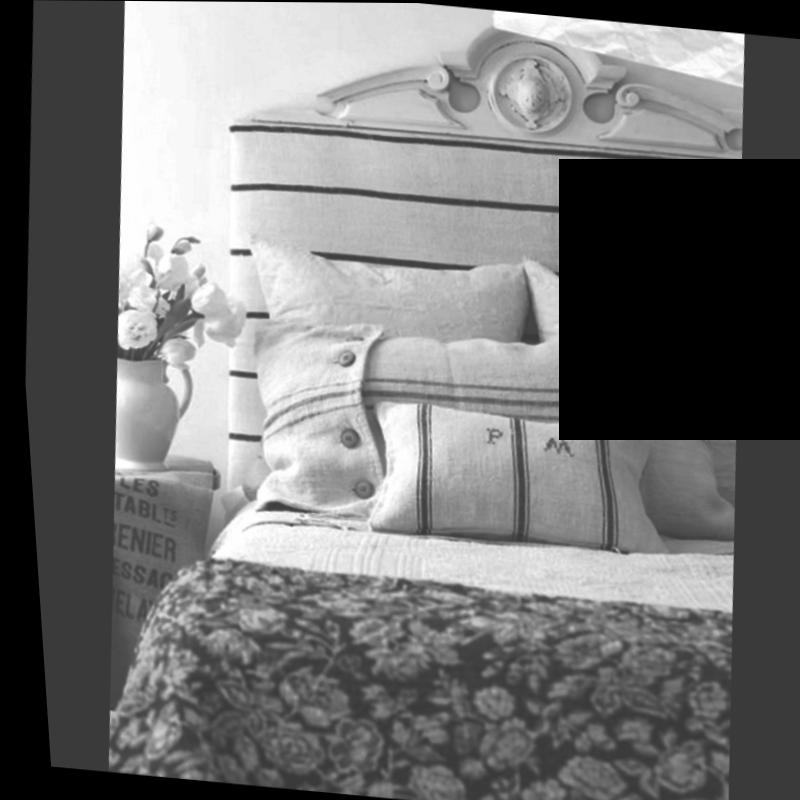pillow: (231, 282, 741, 551), (497, 263, 748, 521), (359, 406, 668, 553), (243, 241, 525, 345)
